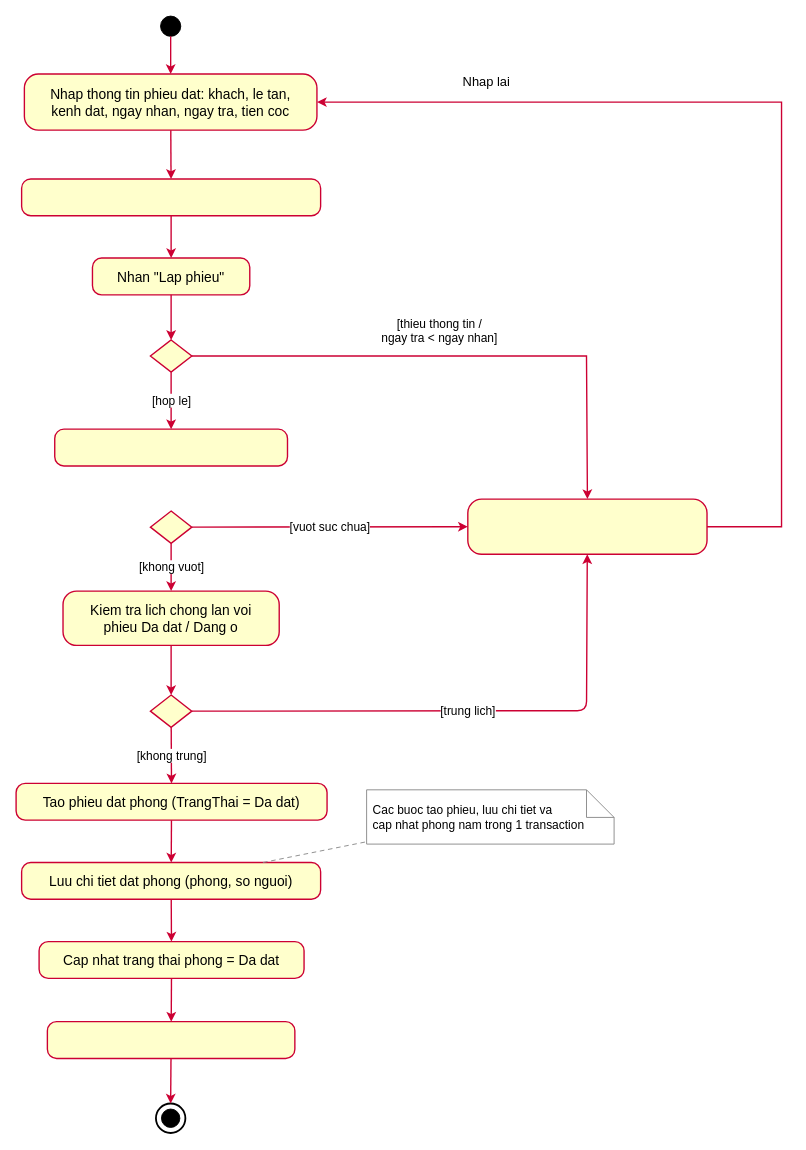
This 806x1150 diagram has some shape labels left out. Here are the shapes that lost their labels. From the top down, the centre of each, then its label:
At pixel 171 197: "Chon phong va so nguoi cho tung phong".
At pixel 171 447: "Kiem tra suc chua tung phong".
At pixel 587 526: "Huy giao dich (rollback), thong bao nguyen nhan tu choi".
At pixel 170 1040: "Thong bao lap phieu thanh cong".
